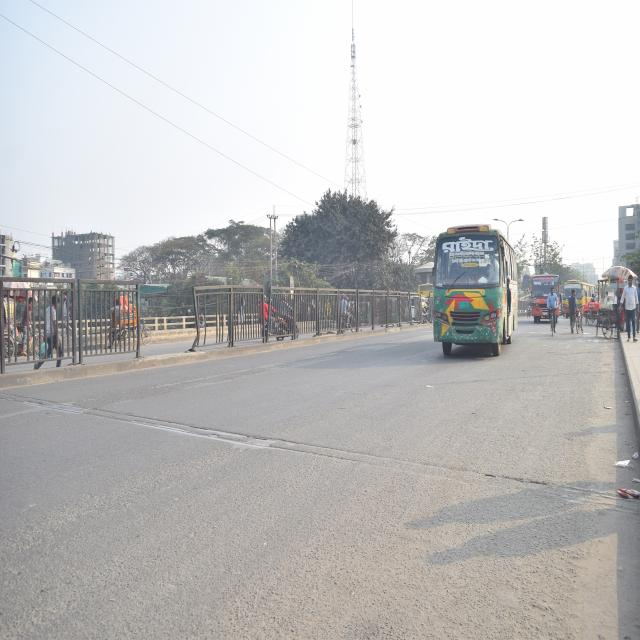bus: (429, 222, 517, 370), (532, 274, 561, 326), (563, 278, 593, 317)
